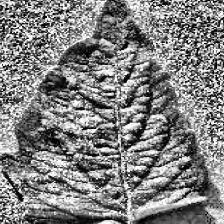Blossom Blight: (124, 104, 170, 142), (104, 42, 150, 79), (51, 103, 102, 135), (40, 160, 88, 192), (132, 187, 172, 210)
